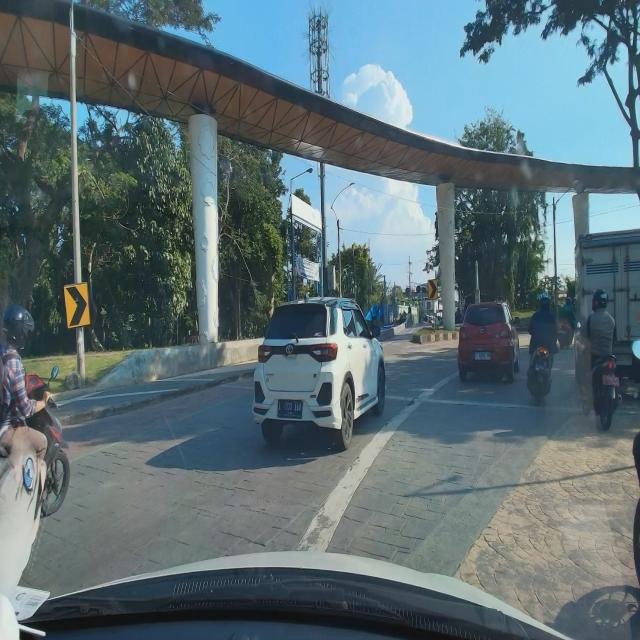car: (250, 293, 386, 452), (458, 301, 520, 383)
license-plate: (277, 400, 303, 418), (475, 352, 491, 360)
